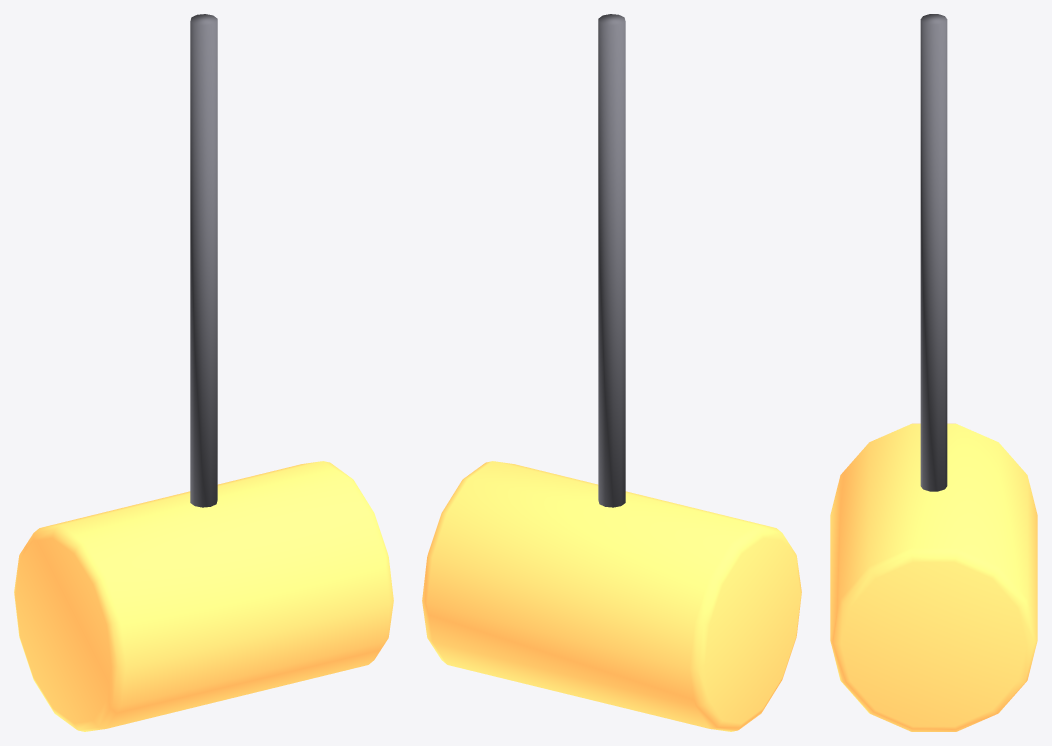
The model's file is prop_pendulum.glb.
3 views of the same model, side by side, from view 1: azimuth 30°, elevation 25°; view 2: azimuth 150°, elevation 25°; view 3: azimuth 270°, elevation 25° (orthographic). The views are drawn at different scales.
Visible parts, largest first — view 1: PendRod; view 2: PendRod; view 3: PendRod.
Boxes of the visible parts, left/top/right/bottom form: PendRod: left=14, top=14, right=393, bottom=731; PendRod: left=422, top=14, right=801, bottom=731; PendRod: left=830, top=14, right=1037, bottom=731.
Size of the model in its own units: 4.7 by 10.71 by 3.1.
